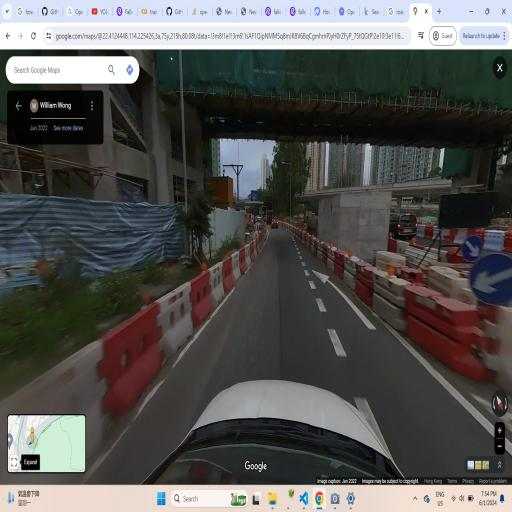Roads: (208, 139, 416, 432)
Trees: (273, 130, 313, 231), (183, 181, 222, 274)
